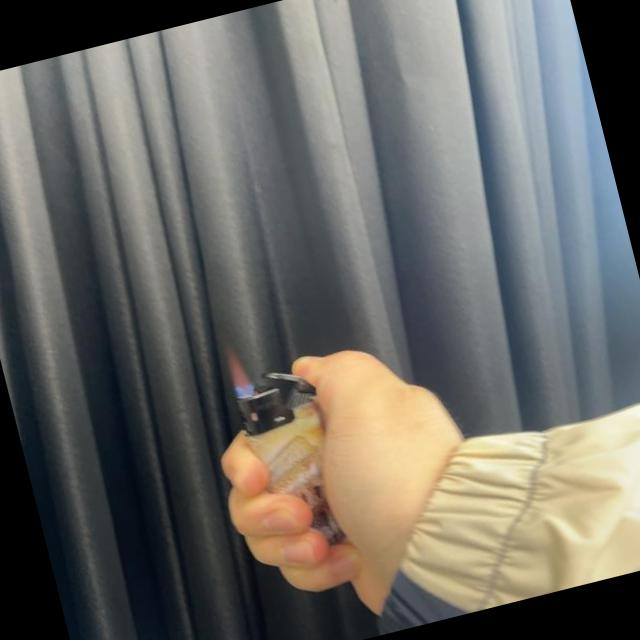Fire: (220, 343, 258, 400)
